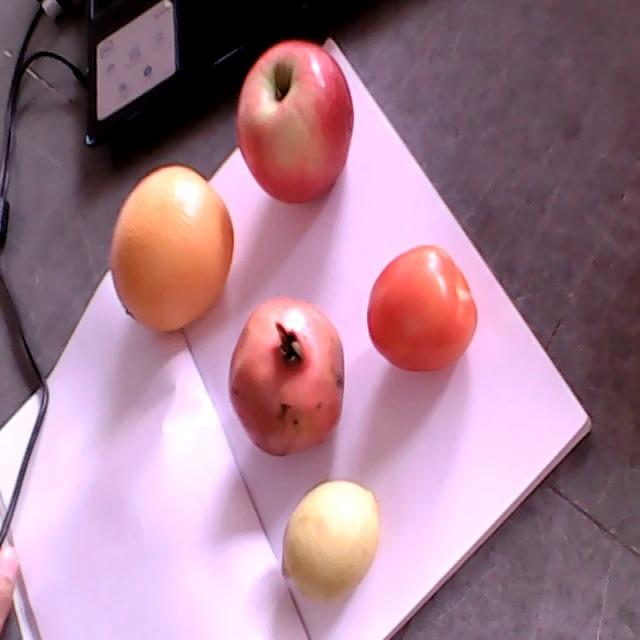apple: (236, 41, 354, 203)
lemon: (281, 480, 382, 605)
orange: (111, 166, 234, 330)
pomegranate: (229, 296, 346, 456)
tomato: (367, 245, 477, 371)
